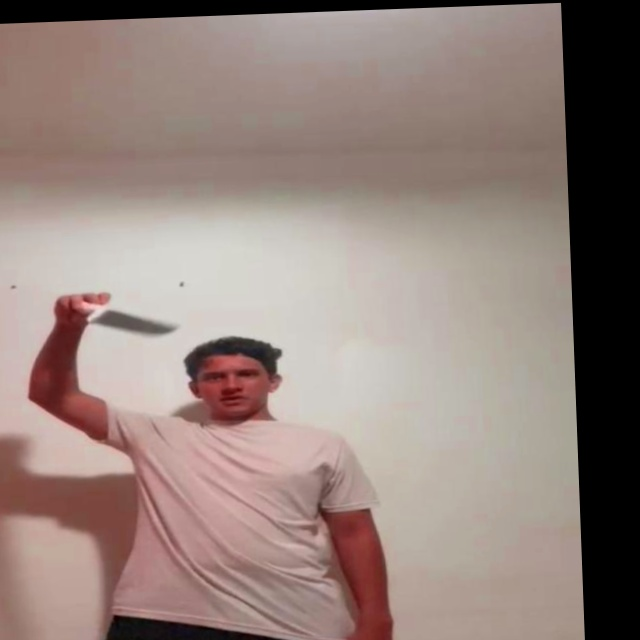Sharp-Object: (89, 304, 176, 333)
